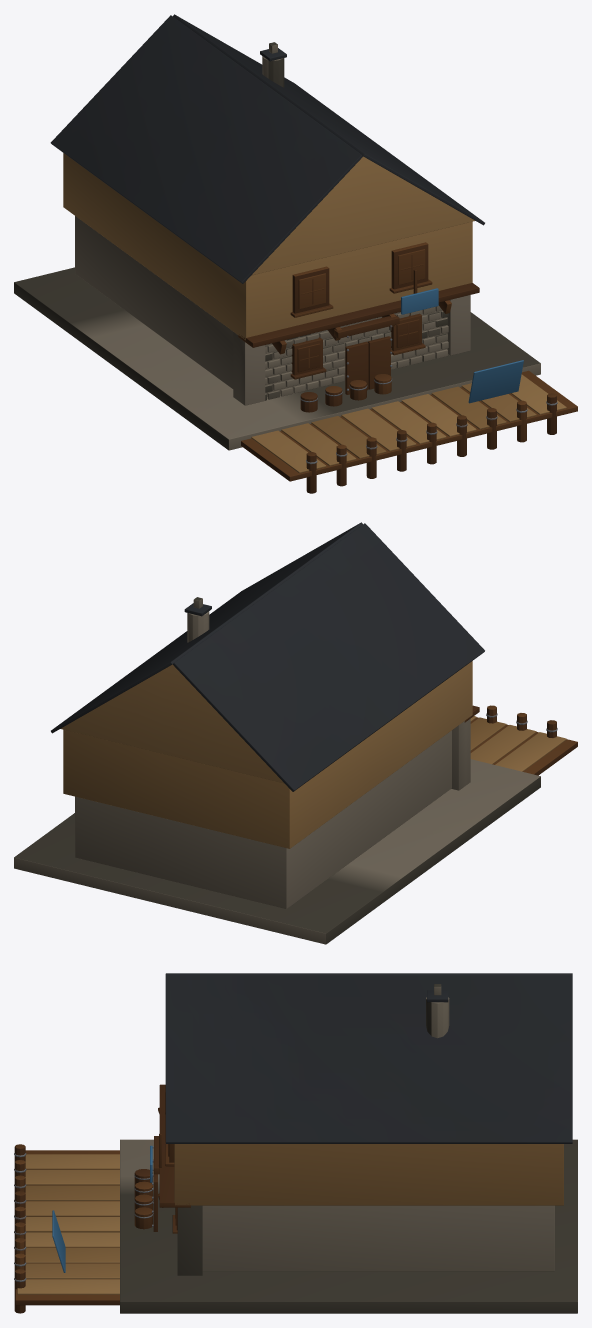
The model's file is building_freetown_tavern.fbx.
3 renders of one model, top to bottom at view 1: azimuth 30°, elevation 25°; view 2: azimuth 150°, elevation 25°; view 3: azimuth 270°, elevation 25°, orthographic. The views are drawn at different scales.
Visible parts, largest first — view 1: building_freetown_tavern; view 2: building_freetown_tavern; view 3: building_freetown_tavern.
Part boxes in pixels (x1=…): building_freetown_tavern: x1=14, y1=14, x2=577, y2=493; building_freetown_tavern: x1=14, y1=522, x2=577, y2=944; building_freetown_tavern: x1=14, y1=973, x2=577, y2=1313.
Bounding box in the file's own units: 10.4 × 8.46 × 15.27.
